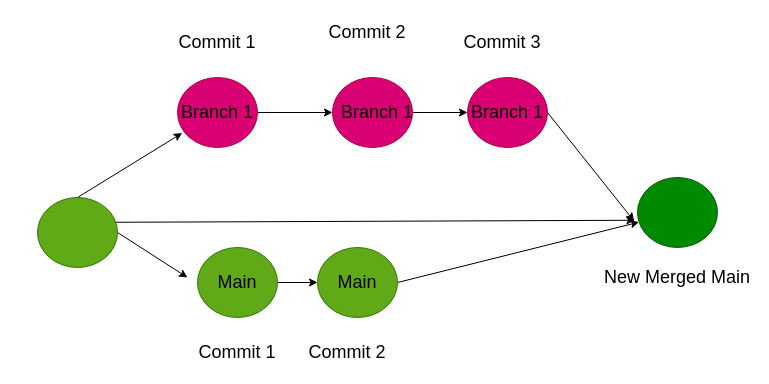
Some shapes in this 769 by 384 pixel diagram are drawn without their labels. The centre of each missing label's shape, as x and y in pixels:
"Main Truth" belongs at (77,232).
"New Main" belongs at (677,212).
